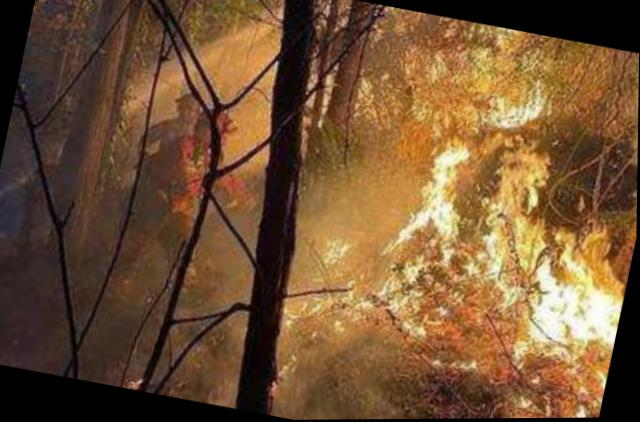fire: (291, 0, 639, 412)
